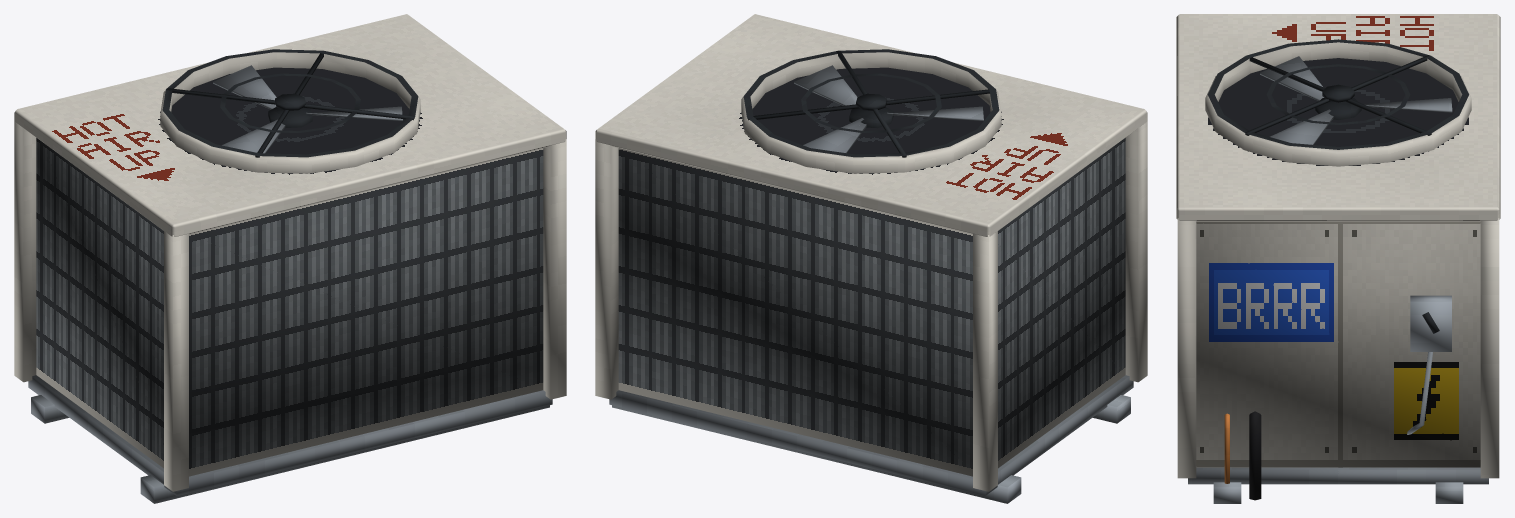
The model's file is p_acunit.glb.
The picture shows the model from 3 angles, left to right: view 1: azimuth 30°, elevation 25°; view 2: azimuth 150°, elevation 25°; view 3: azimuth 270°, elevation 25°; orthographic projection.
Parts seen in each view (by area): view 1: acunit_lod0; view 2: acunit_lod0; view 3: acunit_lod0.
Boxes of the visible parts, <box> form: acunit_lod0: <box>14,14,566,503</box>; acunit_lod0: <box>595,14,1147,503</box>; acunit_lod0: <box>1176,14,1500,503</box>.
Size of what is drawn, in the model's own units: 2 by 1.5 by 1.4.
Materials: 2 (2 with a texture image).
